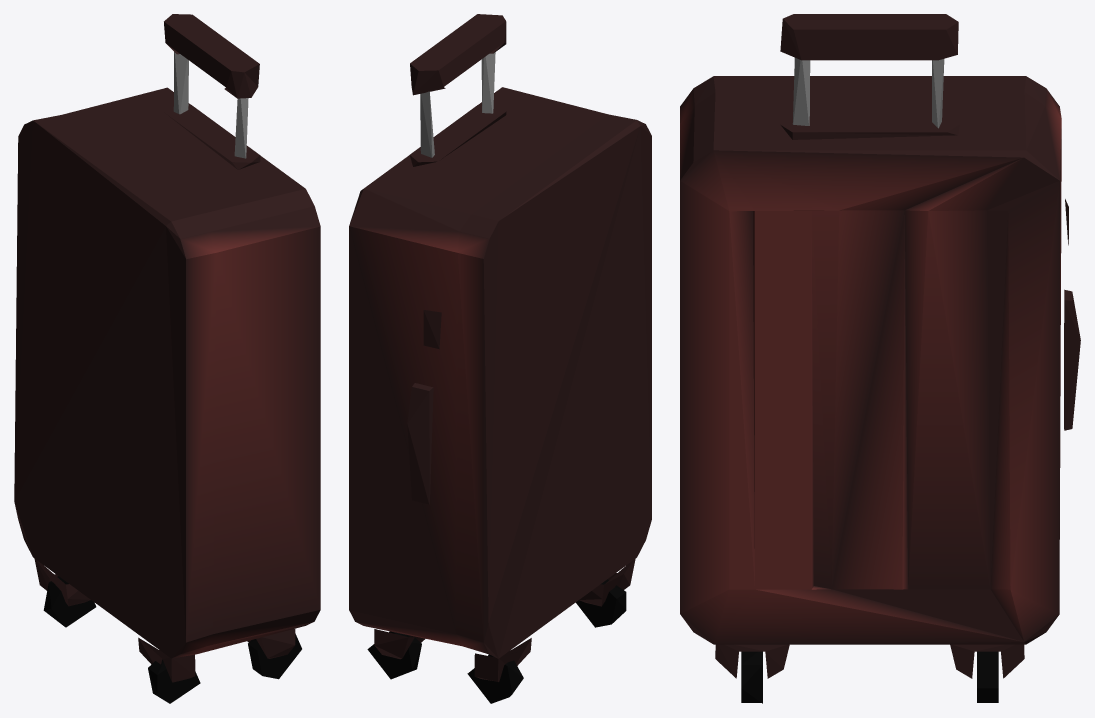
Rendered from valise.glb.
3 renders of one model, left to right at view 1: azimuth 30°, elevation 25°; view 2: azimuth 150°, elevation 25°; view 3: azimuth 270°, elevation 25°, orthographic. The views are drawn at different scales.
Parts seen in each view (by area): view 1: 17.7.Model_Cube.186; view 2: 17.7.Model_Cube.186; view 3: 17.7.Model_Cube.186.
Part boxes in pixels (x1,y1,x2,y2): 17.7.Model_Cube.186: (14,14,320,703); 17.7.Model_Cube.186: (349,14,651,703); 17.7.Model_Cube.186: (680,14,1080,703).
Size of the model in its own units: 0.2659 by 1.03 by 0.5529.
